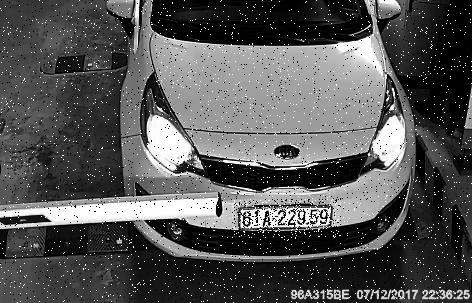License-plate: (233, 200, 342, 239)
